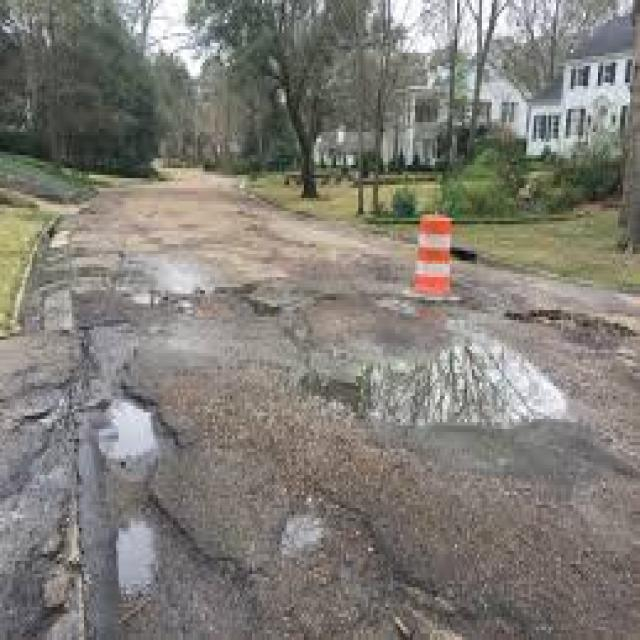pothole: (523, 288, 640, 359), (91, 396, 189, 470), (106, 501, 165, 607)
